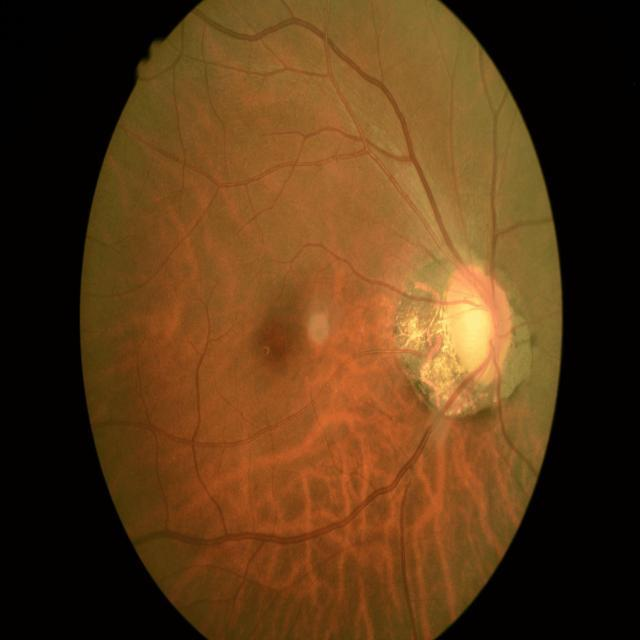cup: (450, 283, 498, 372)
disk: (442, 264, 512, 387)
